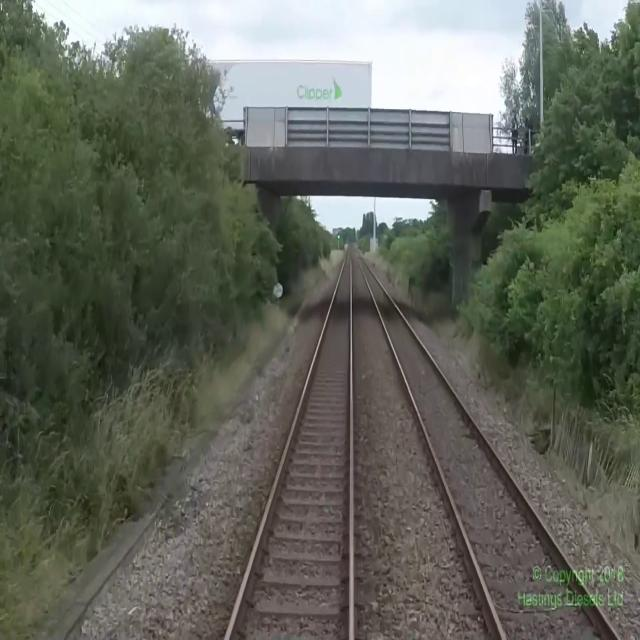rail-track: (360, 261, 616, 639), (229, 258, 350, 639)
